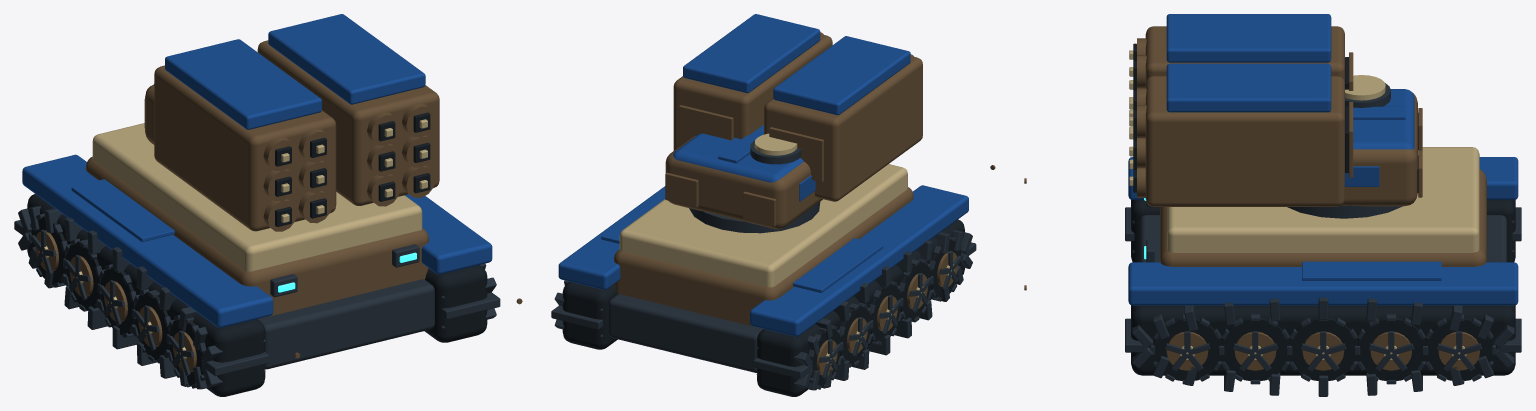
Rendered from artillery-0.glb.
3 renders of one model, left to right at view 1: azimuth 30°, elevation 25°; view 2: azimuth 150°, elevation 25°; view 3: azimuth 270°, elevation 25°, orthographic. The views are drawn at different scales.
Visible parts, largest first — view 1: CeramicHull_2, RocketPodCasing_370, CeramicTrackGuard_139, HullBronze_1, TrackedChassis_0, RocketPodEnamel_403, RocketPodEnamel_371, RocketPodCasing_402, TrackCavity_3, CeramicTrackGuard_304, TrackCavity_168, GuardStripe_140 (+20 smaller); view 2: CeramicHull_2, RocketPodCasing_370, CeramicTrackGuard_139, HullBronze_1, TrackedChassis_0, RocketPodEnamel_403, RocketPodEnamel_371, TurretHousing_350, RocketPodCasing_402, TrackCavity_3, CeramicTrackGuard_304, TurretCeramic_351 (+18 smaller); view 3: RocketPodCasing_402, CeramicHull_2, CeramicTrackGuard_304, RocketPodEnamel_403, RocketPodEnamel_371, TrackCavity_168, HullBronze_1, TurretHousing_350, GuardStripe_305, TurretCeramic_351, RocketPodCasing_370, Tyre_250 (+17 smaller).
Boxes of the visible parts, <box> form: CeramicHull_2: <box>92,123,422,271</box>; RocketPodCasing_370: <box>154,65,336,231</box>; CeramicTrackGuard_139: <box>22,154,273,327</box>; HullBronze_1: <box>85,156,428,319</box>; TrackedChassis_0: <box>258,279,434,369</box>; RocketPodEnamel_403: <box>268,14,425,104</box>; RocketPodEnamel_371: <box>165,39,321,129</box>; RocketPodCasing_402: <box>257,40,439,205</box>; TrackCavity_3: <box>27,194,265,396</box>; CeramicTrackGuard_304: <box>405,194,492,274</box>; TrackCavity_168: <box>424,265,487,342</box>; GuardStripe_140: <box>71,179,174,242</box>; CeramicHull_2: <box>619,164,907,287</box>; RocketPodCasing_370: <box>764,56,922,201</box>; CeramicTrackGuard_139: <box>750,185,968,336</box>; HullBronze_1: <box>614,187,913,329</box>; TrackedChassis_0: <box>608,294,762,372</box>; RocketPodEnamel_403: <box>683,14,820,93</box>; RocketPodEnamel_371: <box>773,36,910,115</box>; TurretHousing_350: <box>665,135,822,229</box>; RocketPodCasing_402: <box>673,34,832,150</box>; TrackCavity_3: <box>757,219,964,396</box>; CeramicTrackGuard_304: <box>558,186,665,289</box>; TurretCeramic_351: <box>673,133,803,182</box>; RocketPodCasing_402: <box>1145,76,1344,206</box>; CeramicHull_2: <box>1167,147,1479,252</box>; CeramicTrackGuard_304: <box>1128,262,1518,305</box>; RocketPodEnamel_403: <box>1166,63,1331,112</box>; RocketPodEnamel_371: <box>1166,14,1331,62</box>; TrackCavity_168: <box>1131,305,1515,375</box>; HullBronze_1: <box>1160,169,1486,266</box>; TurretHousing_350: <box>1342,92,1417,206</box>; GuardStripe_305: <box>1302,261,1441,280</box>; TurretCeramic_351: <box>1353,89,1414,149</box>; RocketPodCasing_370: <box>1145,26,1344,83</box>; Tyre_250: <box>1221,318,1289,380</box>.
Bounding box in the file's own units: 1.92 × 1.73 × 2.87.
